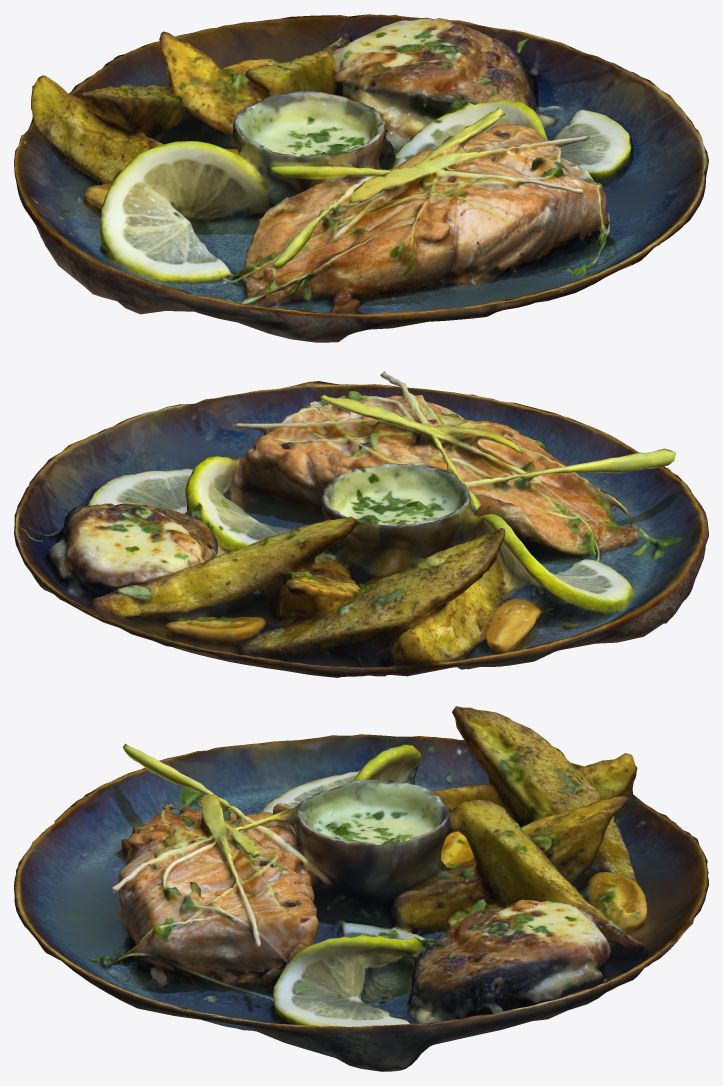
Rendered from pave-de-saumon.glb.
3 renders of one model, top to bottom at view 1: azimuth 30°, elevation 25°; view 2: azimuth 150°, elevation 25°; view 3: azimuth 270°, elevation 25°, orthographic.
Parts seen in each view (by area): view 1: /ObjectCapture/Geometry/Mesh; view 2: /ObjectCapture/Geometry/Mesh; view 3: /ObjectCapture/Geometry/Mesh.
Boxes of the visible parts, left/top/right/bottom form: /ObjectCapture/Geometry/Mesh: left=14, top=14, right=708, bottom=342; /ObjectCapture/Geometry/Mesh: left=14, top=371, right=708, bottom=677; /ObjectCapture/Geometry/Mesh: left=14, top=706, right=708, bottom=1071.
Size of the model in its own units: 0.2728 by 0.0545 by 0.2699.
1 material, 1 textured.
